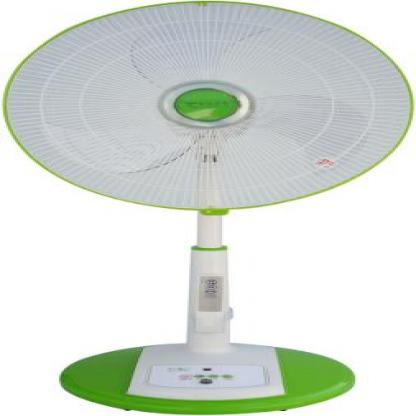fan: (1, 1, 416, 415)
